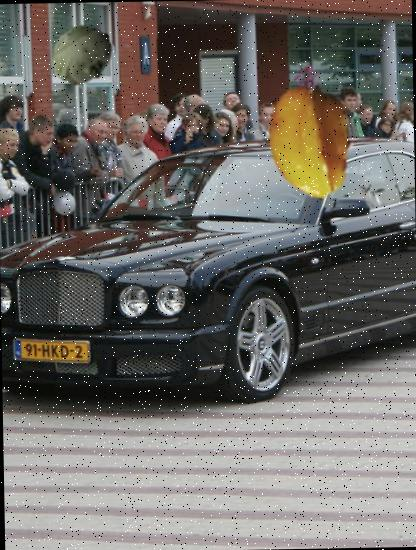Carambula: (252, 83, 370, 201)
Kohlrabi: (48, 20, 116, 88)
